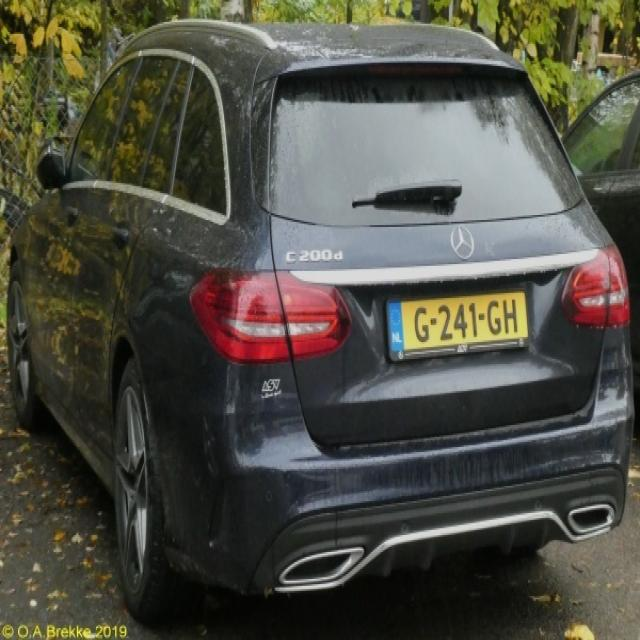number_plate: (383, 288, 532, 347)
